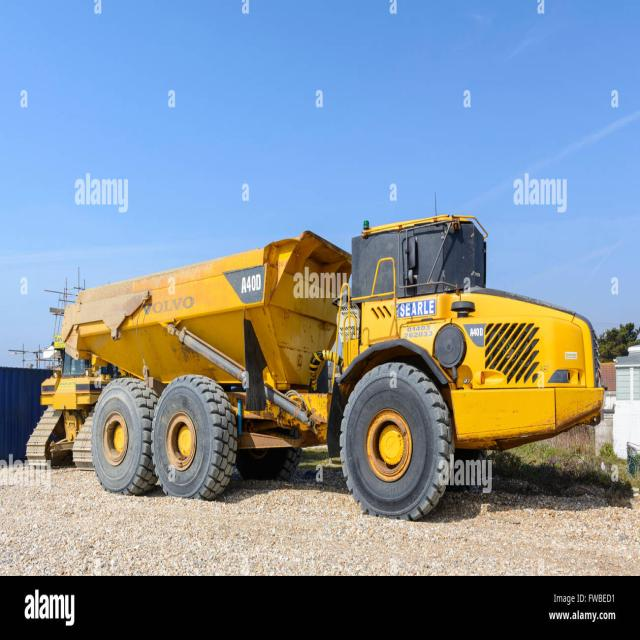dump_truck: (60, 183, 615, 531)
